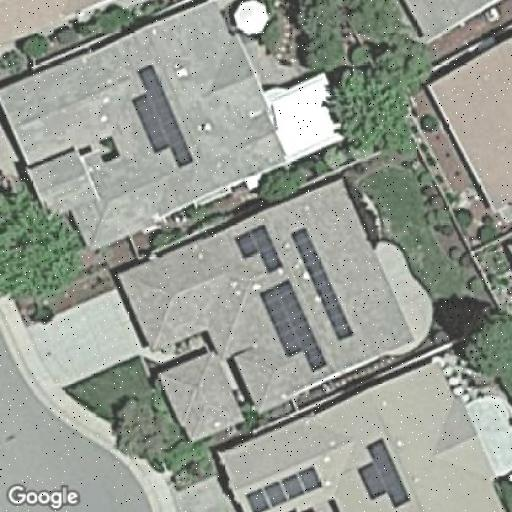solar-panel: (128, 58, 200, 176), (290, 224, 354, 342), (260, 277, 328, 374), (357, 436, 415, 506), (244, 464, 325, 511), (233, 220, 285, 276)
